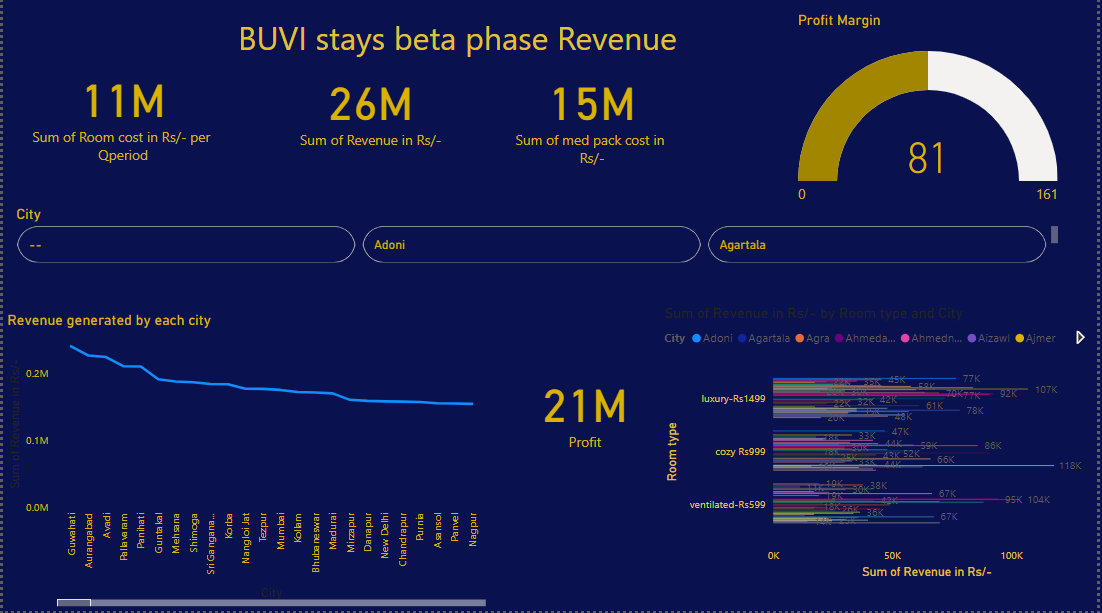

The dashboard page shown, as its layout file describes it:
{"tool":"powerbi","page":{"name":"Page 1","canvas":[1280,720],"ordinal":0},"visuals":[{"type":"card","fields":{"Values":["Sum(Sheet1.Room cost in Rs/- per Qperiod)"]},"box":[0,19.4,279.9,215.2],"z":0},{"type":"card","fields":{"Values":["Sum(Sheet1.med pack cost in Rs/-)"]},"box":[569.5,19.4,236.2,221.7],"z":1000},{"type":"gauge","fields":{"Y":["Sheet1.Profit Margin"]},"box":[923.9,19.4,313.9,255.6],"z":2000},{"type":"card","fields":{"Values":["Sum(Sheet1.Revenue in Rs/-)"]},"box":[289.6,43.7,279.9,173.1],"z":3000},{"type":"advancedSlicerVisual","fields":{"Values":["Sheet1.City"]},"box":[9.7,245.9,1228,72.8],"z":4000},{"type":"lineChart","title":"Revenue generated by each city","fields":{"Category":["Sheet1.City"],"Y":["Sum(Sheet1.Revenue in Rs/-)"]},"box":[0,370.5,569.5,349.5],"z":5000},{"type":"card","fields":{"Values":["Sheet1.Profit"]},"box":[569.5,399.6,220,166.7],"z":6000},{"type":"clusteredBarChart","fields":{"Series":["Sheet1.City"],"Category":["Sheet1.Room type"],"Y":["Sum(Sheet1.Revenue in Rs/-)"]},"box":[768.5,360.8,511.3,325.2],"z":7000},{"type":"textbox","box":[24.3,19.4,855.9,71.2],"z":7001}]}

Visuals, with their boxes in screenshot pixels (x1, y1, x2, y2), scaled from the page's 1280x720 canvas onto the 1102x613 screenshot:
card - Sum(Sheet1.Room cost in Rs/- per Qperiod): (x1=0, y1=17, x2=241, y2=200)
card - Sum(Sheet1.med pack cost in Rs/-): (x1=490, y1=17, x2=694, y2=205)
gauge - Sheet1.Profit Margin: (x1=795, y1=17, x2=1066, y2=234)
card - Sum(Sheet1.Revenue in Rs/-): (x1=249, y1=37, x2=490, y2=185)
advancedSlicerVisual - Sheet1.City: (x1=8, y1=209, x2=1066, y2=271)
"Revenue generated by each city" lineChart: (x1=0, y1=315, x2=490, y2=612)
card - Sheet1.Profit: (x1=490, y1=340, x2=680, y2=482)
clusteredBarChart - Sheet1.City x Sheet1.Room type: (x1=662, y1=307, x2=1101, y2=584)
textbox: (x1=21, y1=17, x2=758, y2=77)
